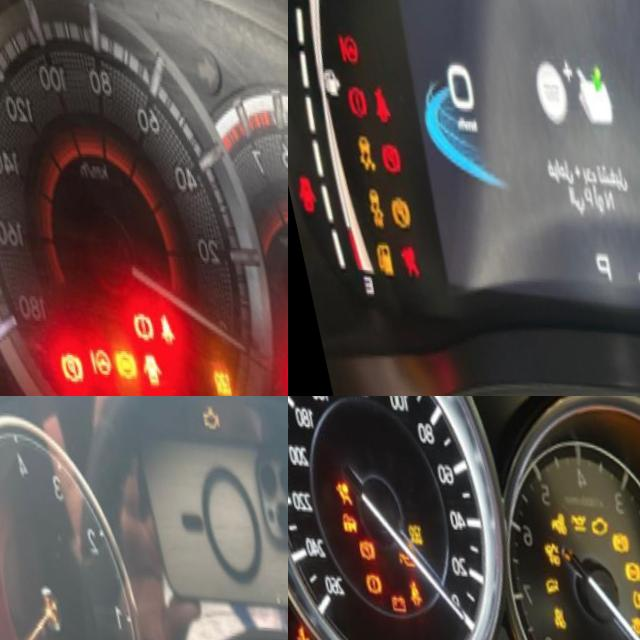Doors: (288, 168, 303, 219)
Engine cooling system: (288, 621, 298, 640)
Low fuel level: (350, 240, 376, 279)
security: (328, 507, 351, 534)
